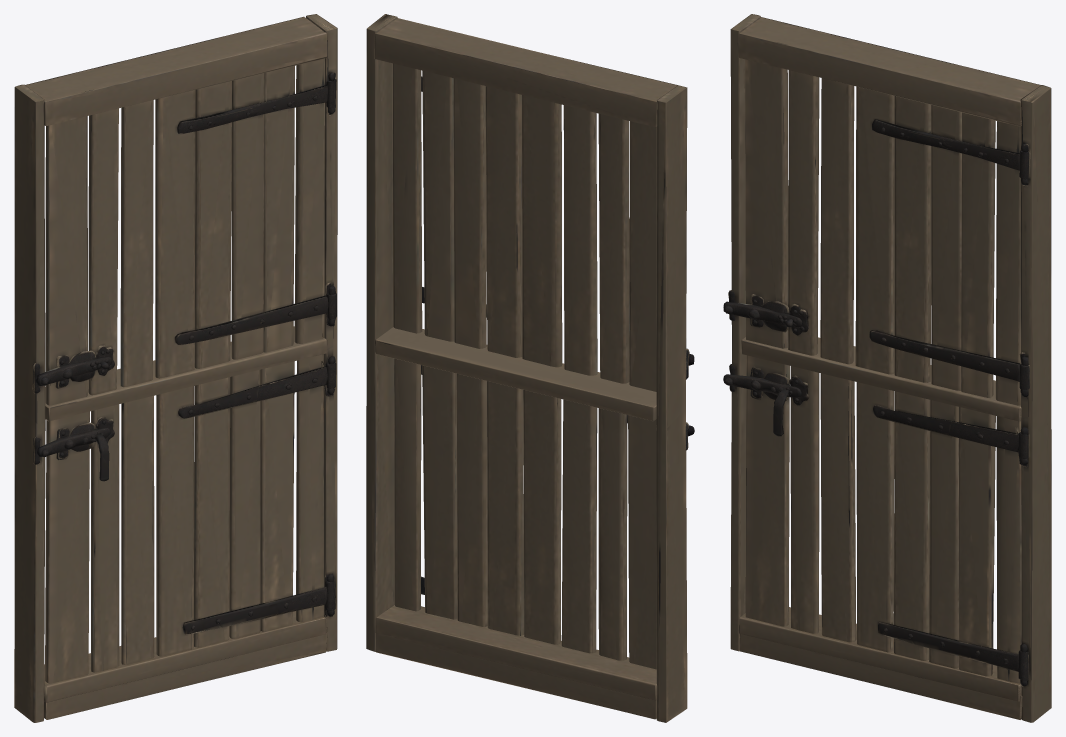
Rendered from Meshy_AI_a_stable_door_0904015237_texture.glb.
3 renders of one model, left to right at view 1: azimuth 30°, elevation 25°; view 2: azimuth 150°, elevation 25°; view 3: azimuth 330°, elevation 25°, orthographic.
Parts seen in each view (by area): view 1: mesh_node; view 2: mesh_node; view 3: mesh_node.
Part boxes in pixels (x1,y1,x2,y2): mesh_node: [14, 14, 337, 722]; mesh_node: [366, 14, 694, 722]; mesh_node: [723, 14, 1051, 722].
Size of the model in its own units: 0.5156 by 1 by 0.0984.
Materials: 1 (1 with a texture image).
